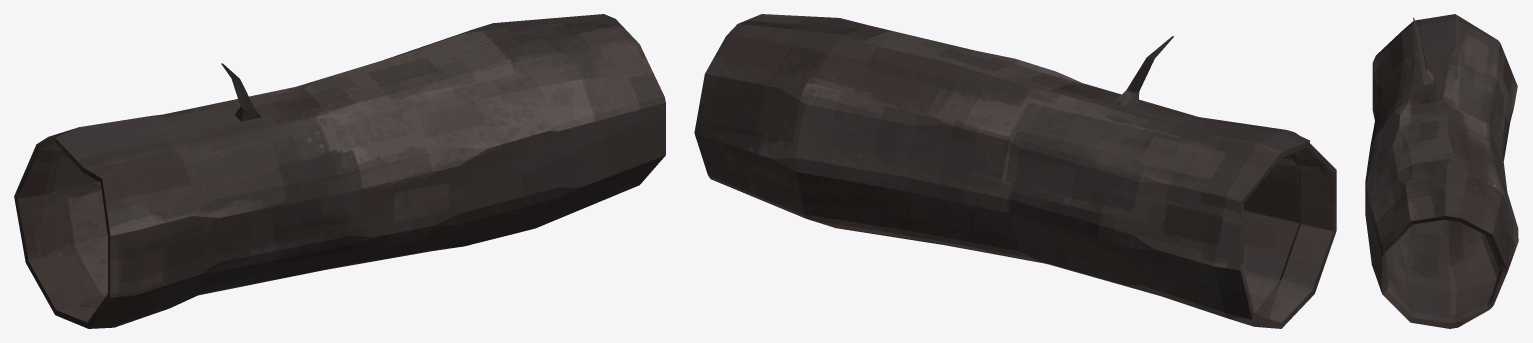
File: buchedarbre1.fbx
3 renders of one model, left to right at view 1: azimuth 30°, elevation 25°; view 2: azimuth 150°, elevation 25°; view 3: azimuth 270°, elevation 25°, orthographic. The views are drawn at different scales.
Visible parts, largest first — view 1: Cylinder.001; view 2: Cylinder.001; view 3: Cylinder.001.
Boxes of the visible parts, bbox=[...] form: Cylinder.001: bbox=[14, 14, 665, 328]; Cylinder.001: bbox=[694, 14, 1336, 328]; Cylinder.001: bbox=[1365, 14, 1518, 328].
Size of the model in its own units: 672 by 282 by 222.
